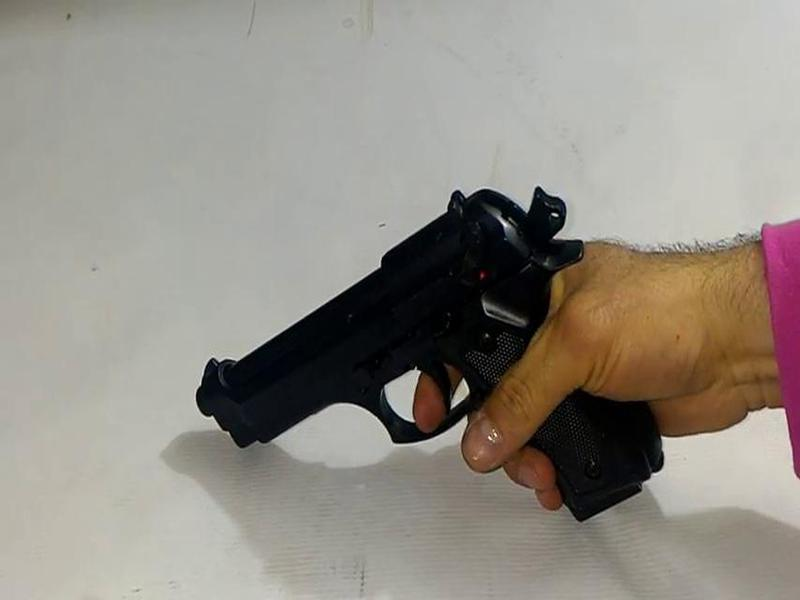Pistola: (184, 191, 704, 506)
